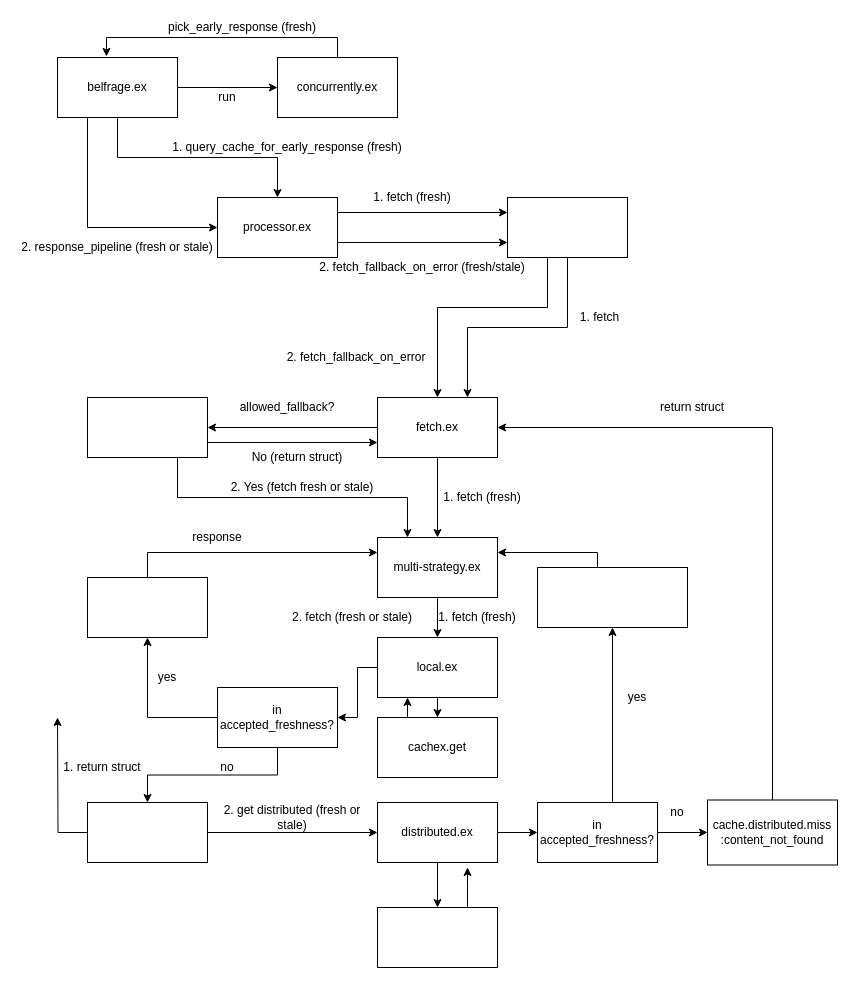
The diagram is 855 pixels wide and 985 high, and some of its shapes have lost their labels. Each missing label, with the centre of its shape:
"cache.dstributed.fresh.hit cache.distributed.stale.hit" belongs at pixel 612 597.
"cache.ex" belongs at pixel 567 227.
"cache.local.fresh.hit cache.local.stale.hit" belongs at pixel 147 607.
"cache.local.miss :content_not_found" belongs at pixel 147 832.
"ccp.ex" belongs at pixel 437 937.
"server error / timeout" belongs at pixel 147 427.
